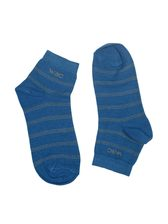sock: (15, 49, 84, 186), (90, 44, 157, 175)
